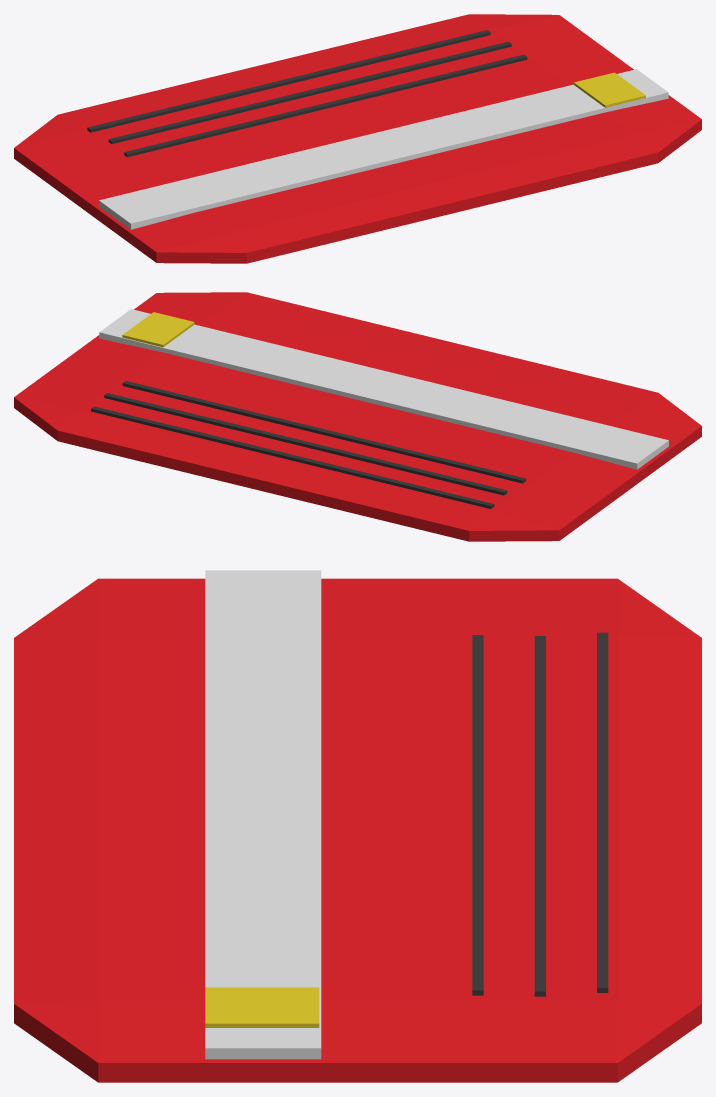
File: RedKeycard.fbx
3 views of the same model, one above another, from view 1: azimuth 30°, elevation 25°; view 2: azimuth 150°, elevation 25°; view 3: azimuth 270°, elevation 25° (orthographic). The views are drawn at different scales.
Visible parts, largest first — view 1: Red Keycard, WhiteStripe, Cube.001, Cube.002, Cube.003, Chip; view 2: Red Keycard, WhiteStripe, Cube.002, Cube.001, Cube.003, Chip; view 3: Red Keycard, WhiteStripe, Chip, Cube.001, Cube.003, Cube.002.
Boxes of the visible parts, bbox=[...] form: Red Keycard: bbox=[14, 14, 701, 263]; WhiteStripe: bbox=[99, 69, 668, 229]; Cube.001: bbox=[108, 41, 511, 144]; Cube.002: bbox=[87, 30, 490, 132]; Cube.003: bbox=[124, 54, 527, 157]; Chip: bbox=[574, 72, 645, 107]; Red Keycard: bbox=[14, 292, 701, 541]; WhiteStripe: bbox=[99, 309, 668, 469]; Cube.002: bbox=[91, 406, 494, 508]; Cube.001: bbox=[104, 393, 507, 495]; Cube.003: bbox=[122, 381, 525, 483]; Chip: bbox=[122, 312, 194, 347]; Red Keycard: bbox=[14, 578, 701, 1082]; WhiteStripe: bbox=[205, 570, 321, 1059]; Chip: bbox=[205, 987, 319, 1027]; Cube.001: bbox=[534, 636, 545, 996]; Cube.003: bbox=[472, 635, 483, 995]; Cube.002: bbox=[597, 632, 608, 992].
Size of the model in its own units: 400 by 14.94 by 240.
